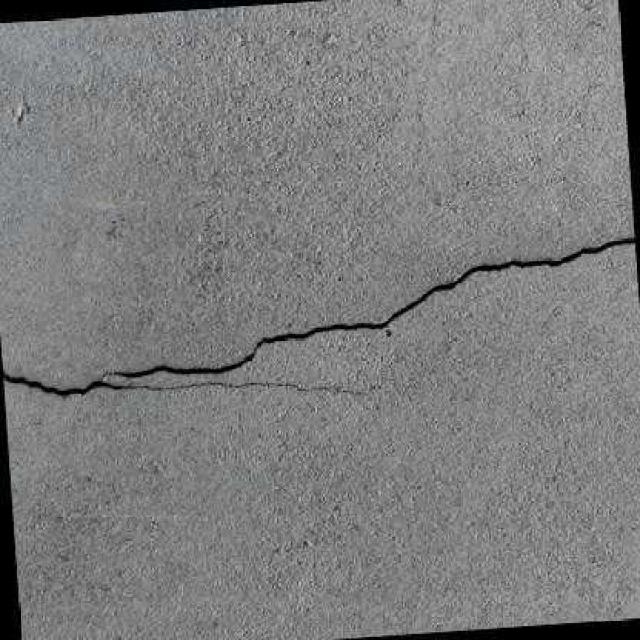D00: (3, 236, 635, 394)
